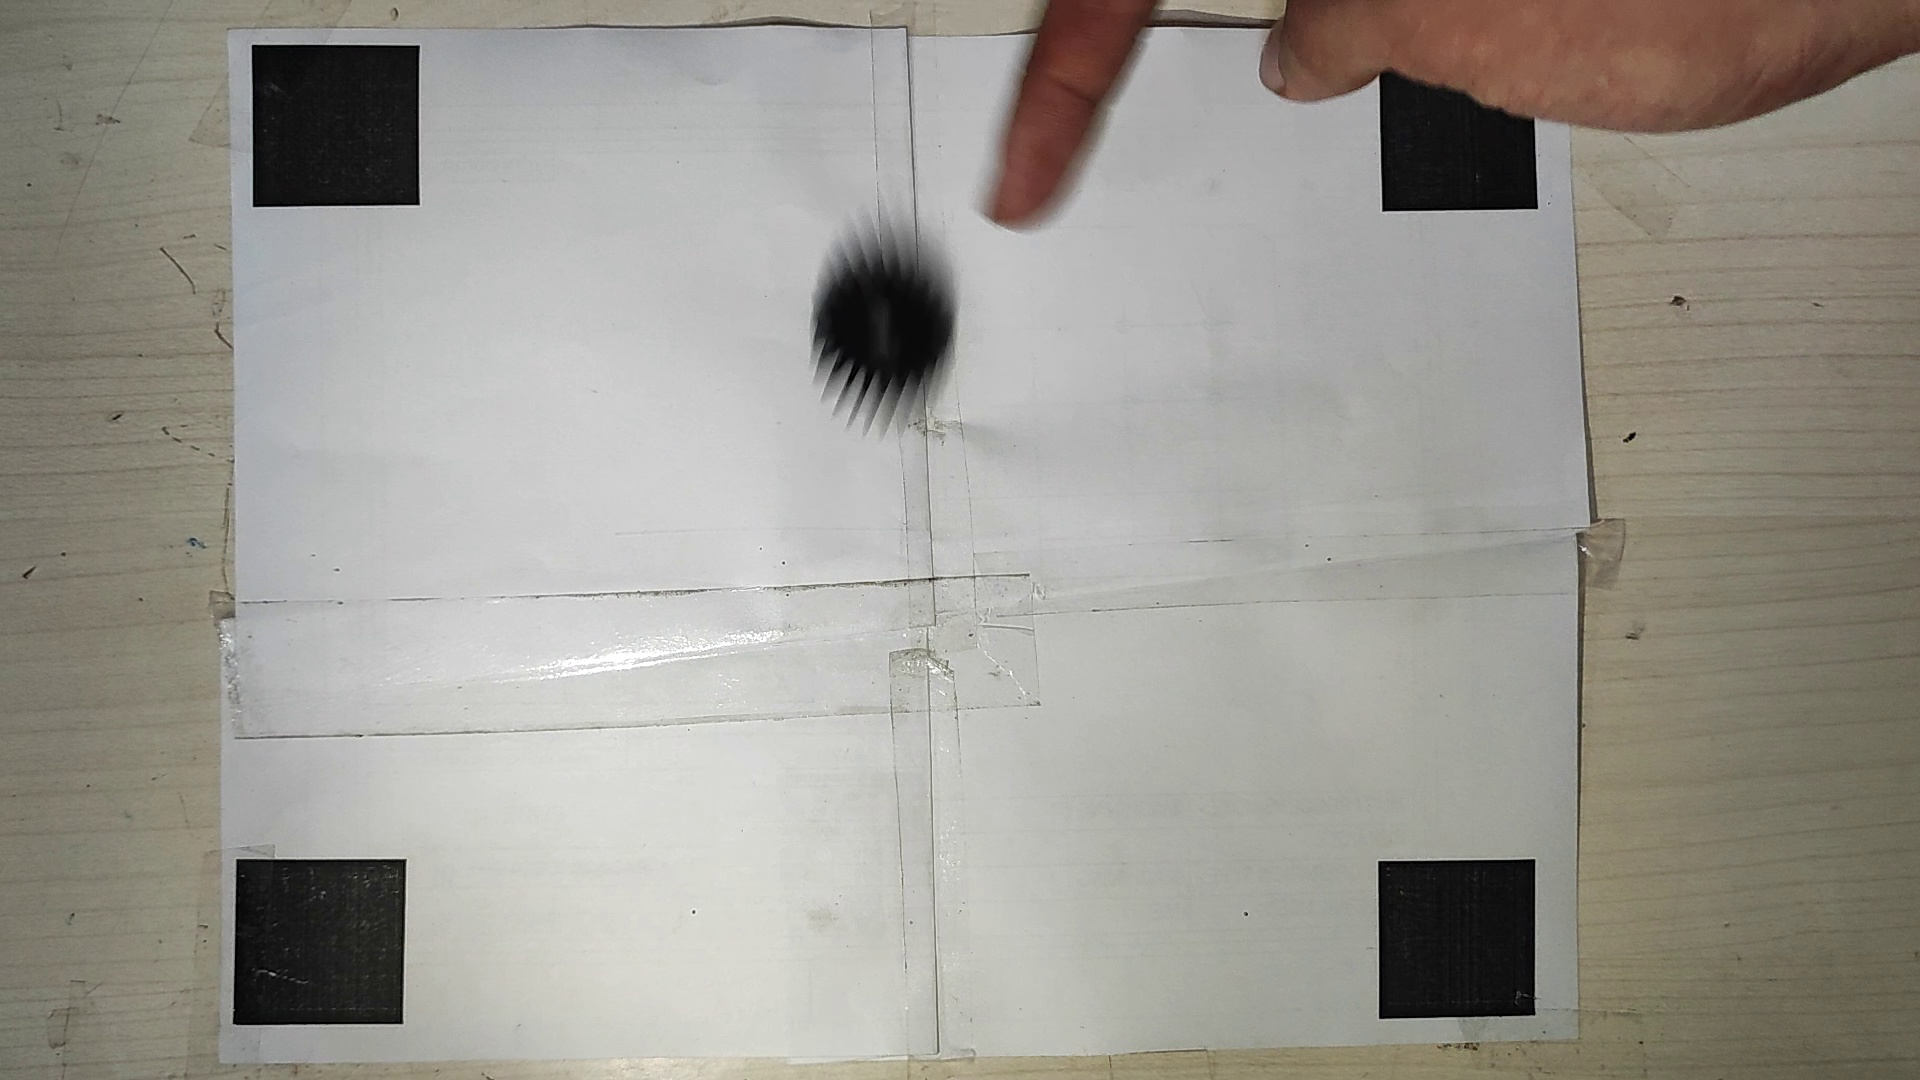Gear: (811, 204, 967, 442)
